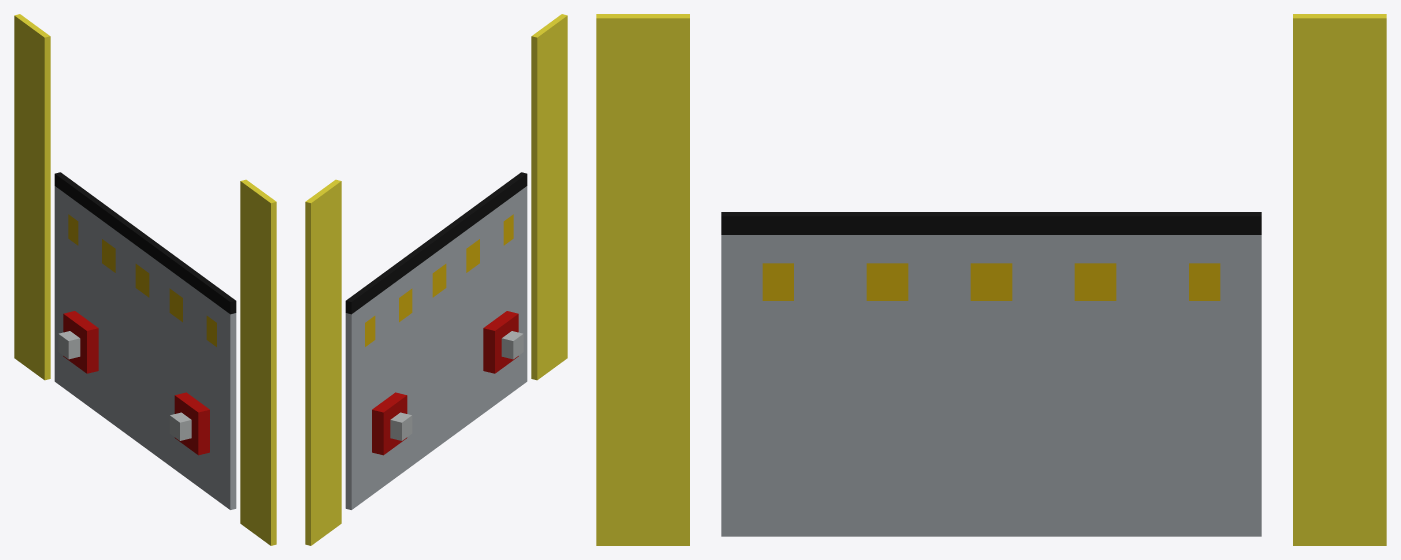
Rendered from fire_engine_pump_panel.glb.
3 views of the same model, side by side, from view 1: azimuth 30°, elevation 25°; view 2: azimuth 150°, elevation 25°; view 3: azimuth 270°, elevation 25° (orthographic). The views are drawn at different scales.
Parts seen in each view (by area): view 1: body:compound; view 2: body:compound; view 3: body:compound.
Part boxes in pixels (<box>): body:compound: <box>14,14,276,545</box>; body:compound: <box>305,14,567,545</box>; body:compound: <box>596,14,1386,545</box>.
Bounding box in the file's own units: 0.1562 × 1.75 × 2.38.
